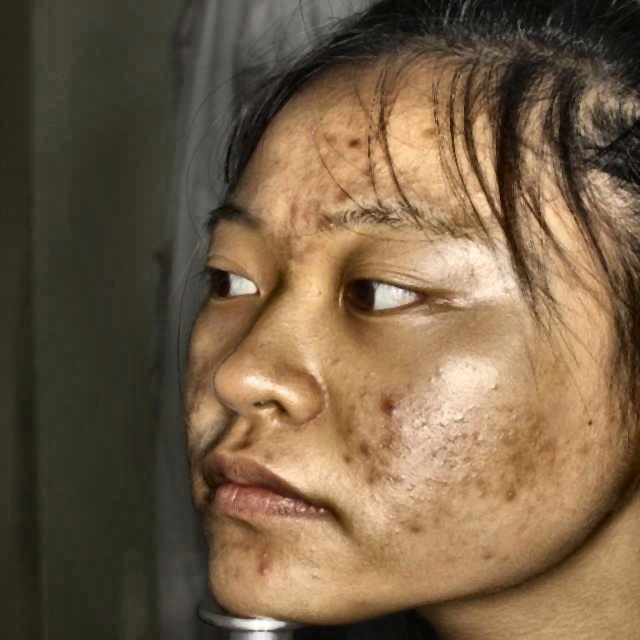pustule: (333, 120, 382, 157), (356, 157, 389, 190), (252, 550, 278, 589), (366, 458, 398, 486), (375, 392, 404, 420), (328, 184, 358, 207), (312, 212, 334, 234), (280, 196, 302, 218), (356, 438, 378, 456)
